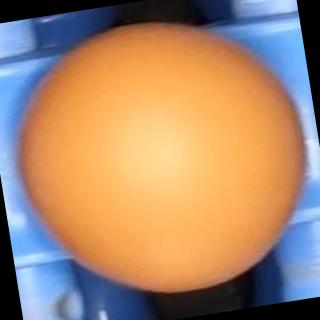Telur: (1, 1, 320, 317)
